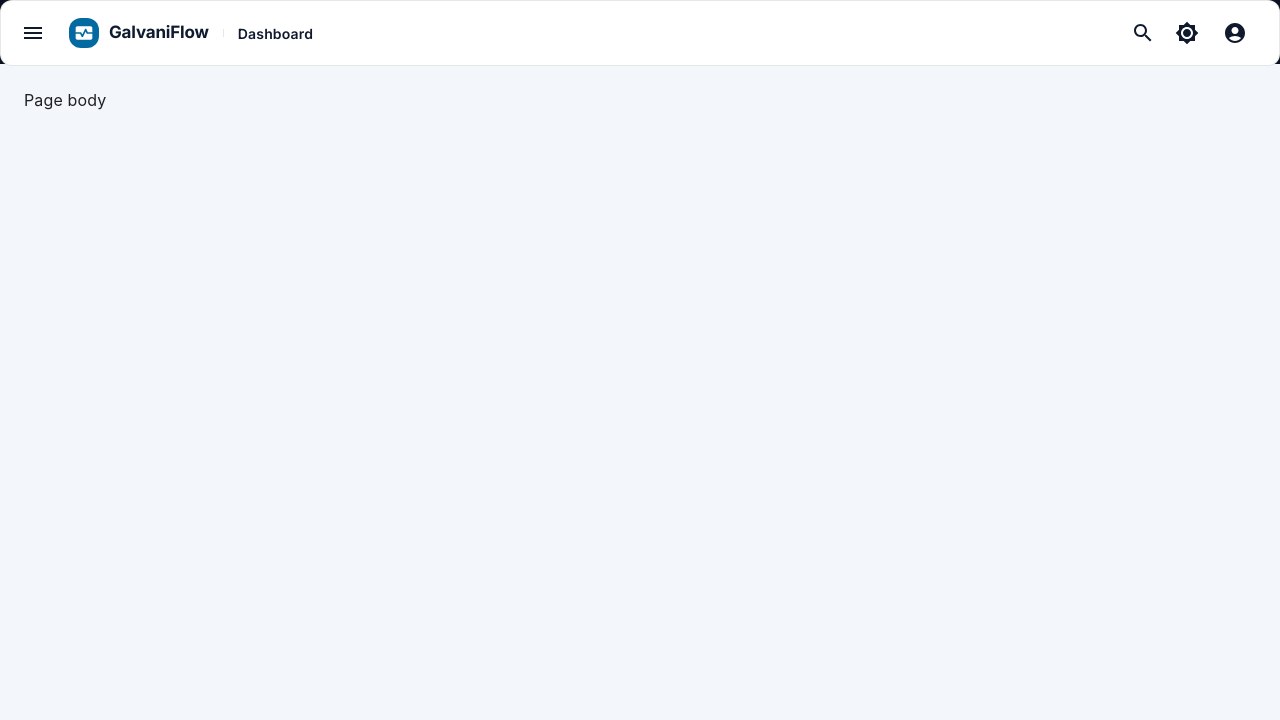
Test case: AppLayout navigation drawer › opens with labels from the menu button on a phone
Click the button named "toggle sidebar": [33, 33] box [13,13,53,53]
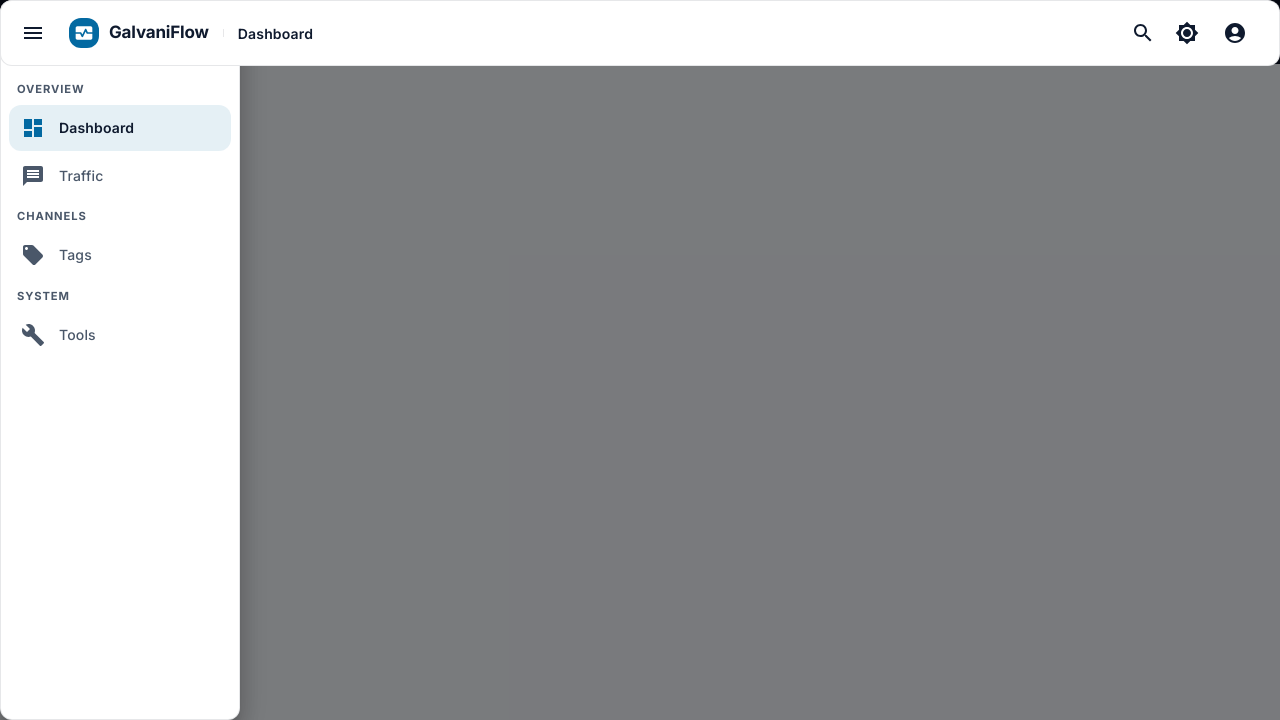
Expected: the link "Dashboard" is shown, [9,105,231,151]
